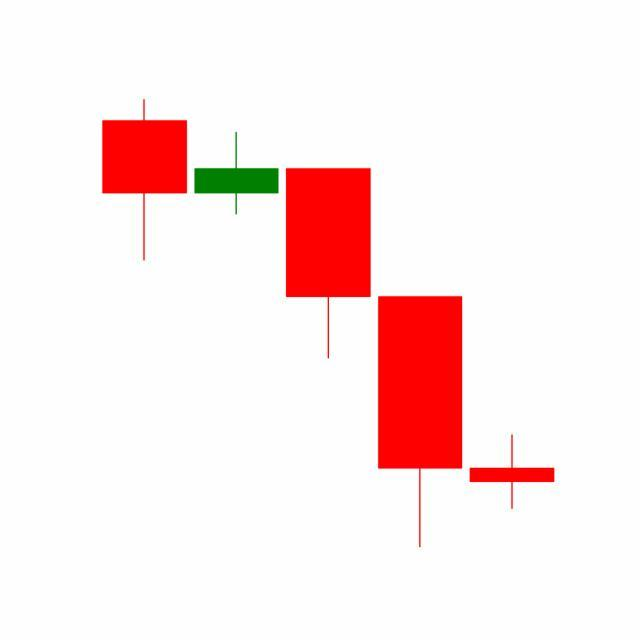Spinning Top: (466, 434, 559, 511)
